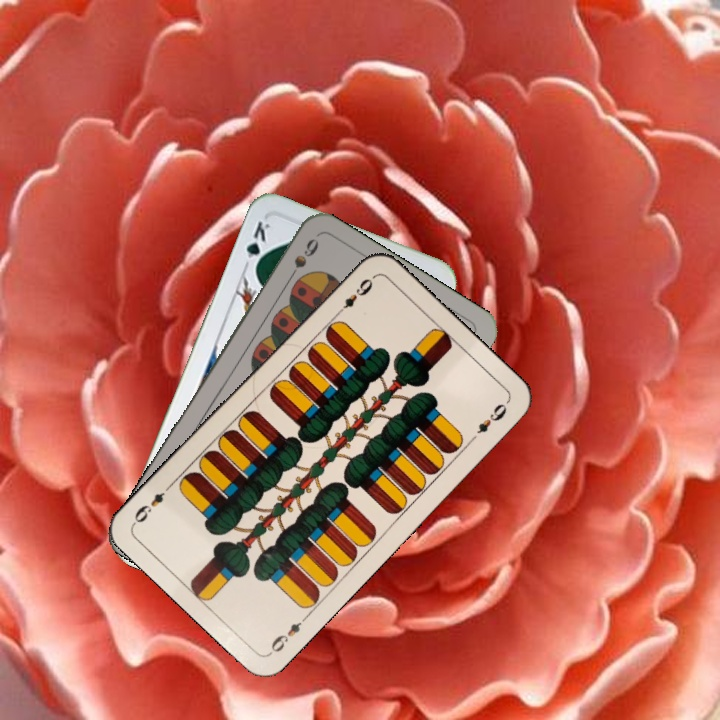E9: (265, 610, 312, 657), (331, 272, 377, 319)
GK: (242, 217, 273, 275)
S9: (282, 234, 322, 287)
